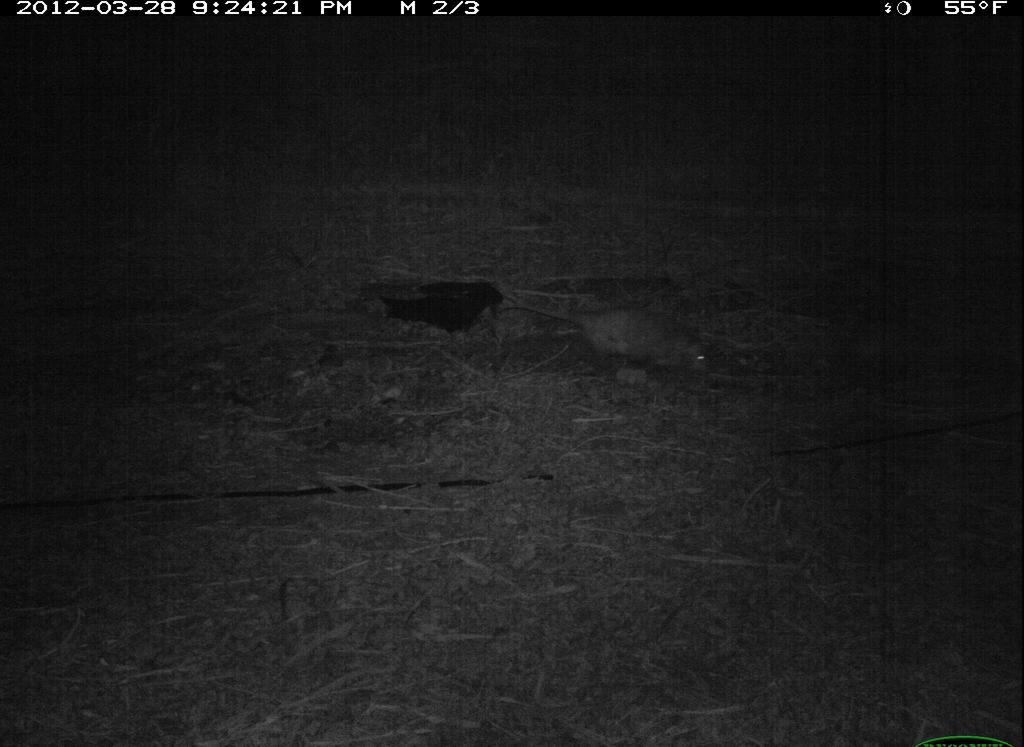opossum: (496, 278, 733, 393)
